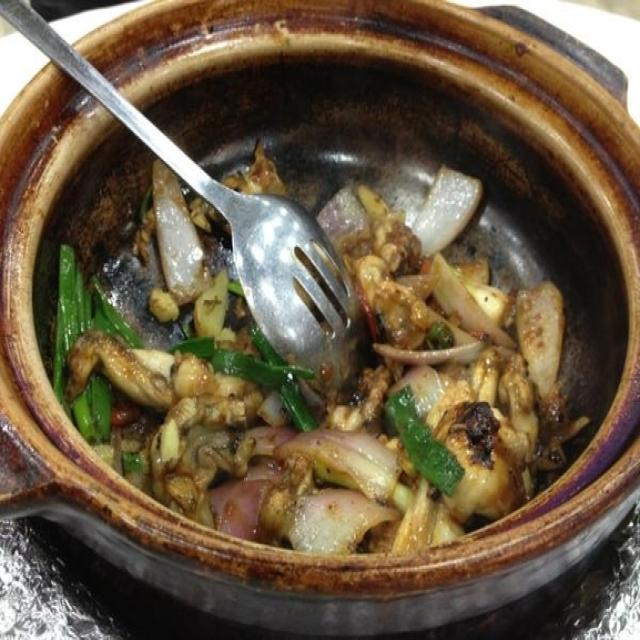汤锅炖物: (16, 18, 631, 598)
